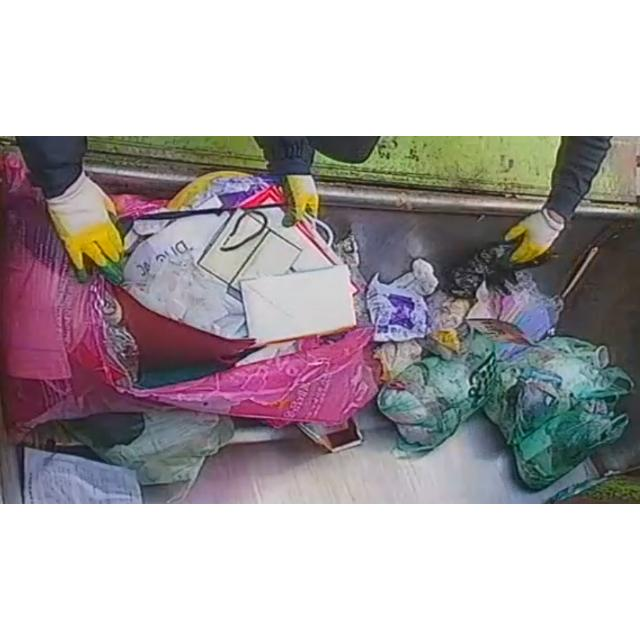general_trashbag: (484, 337, 634, 489)
